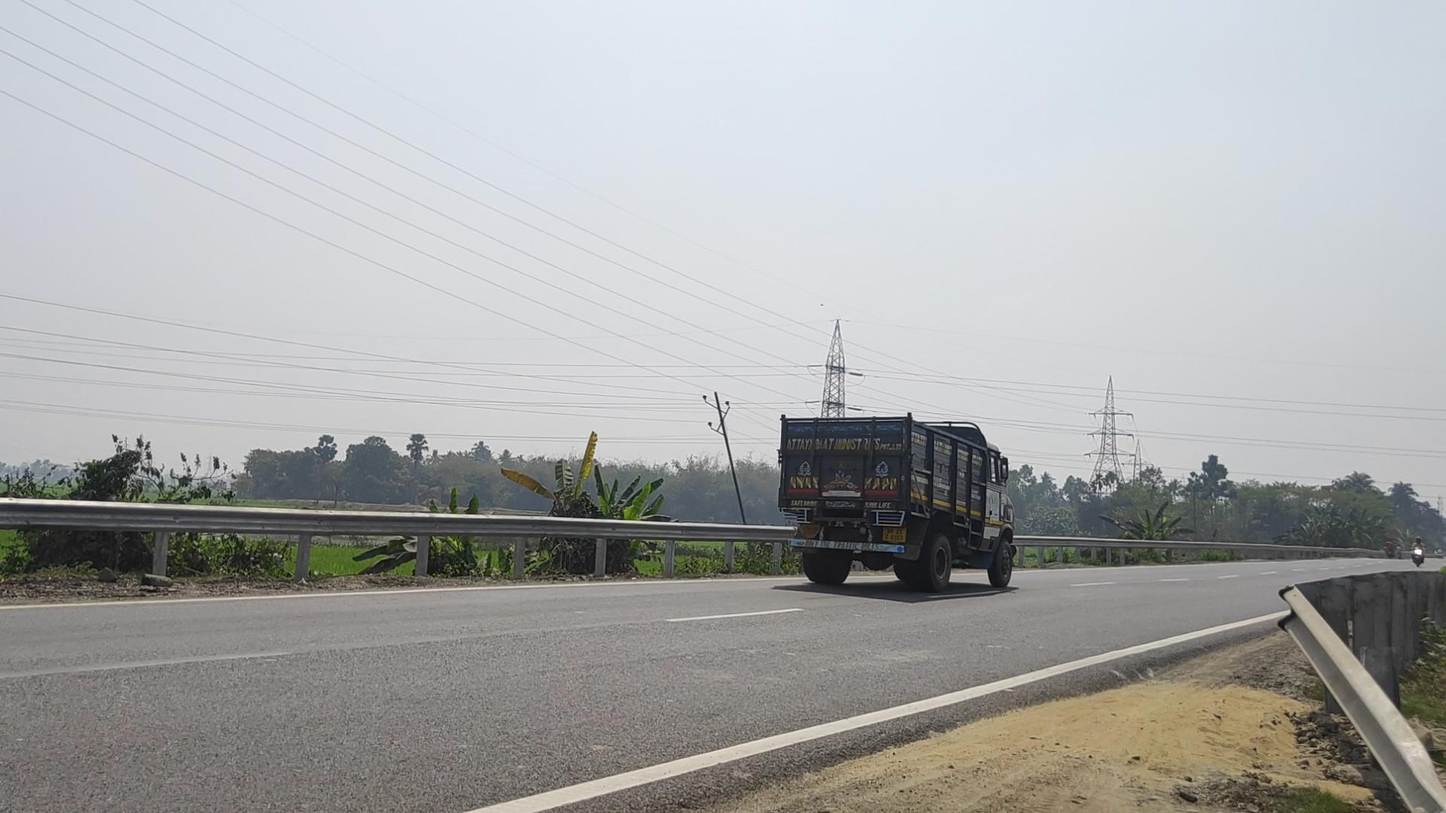bike: (1410, 535, 1426, 568)
truck: (778, 412, 1017, 593)
